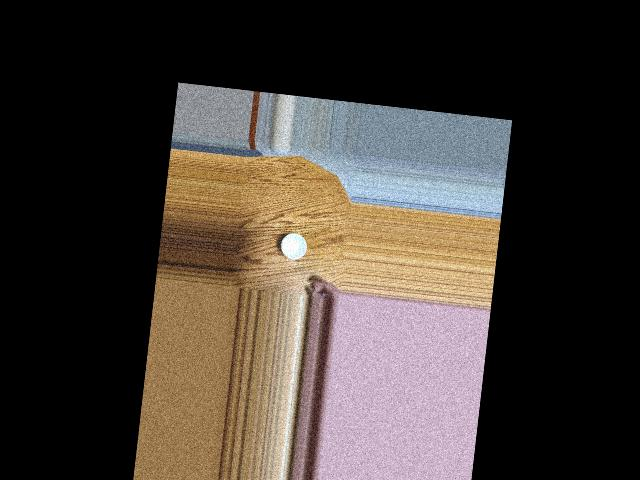cotage: (279, 229, 310, 262)
